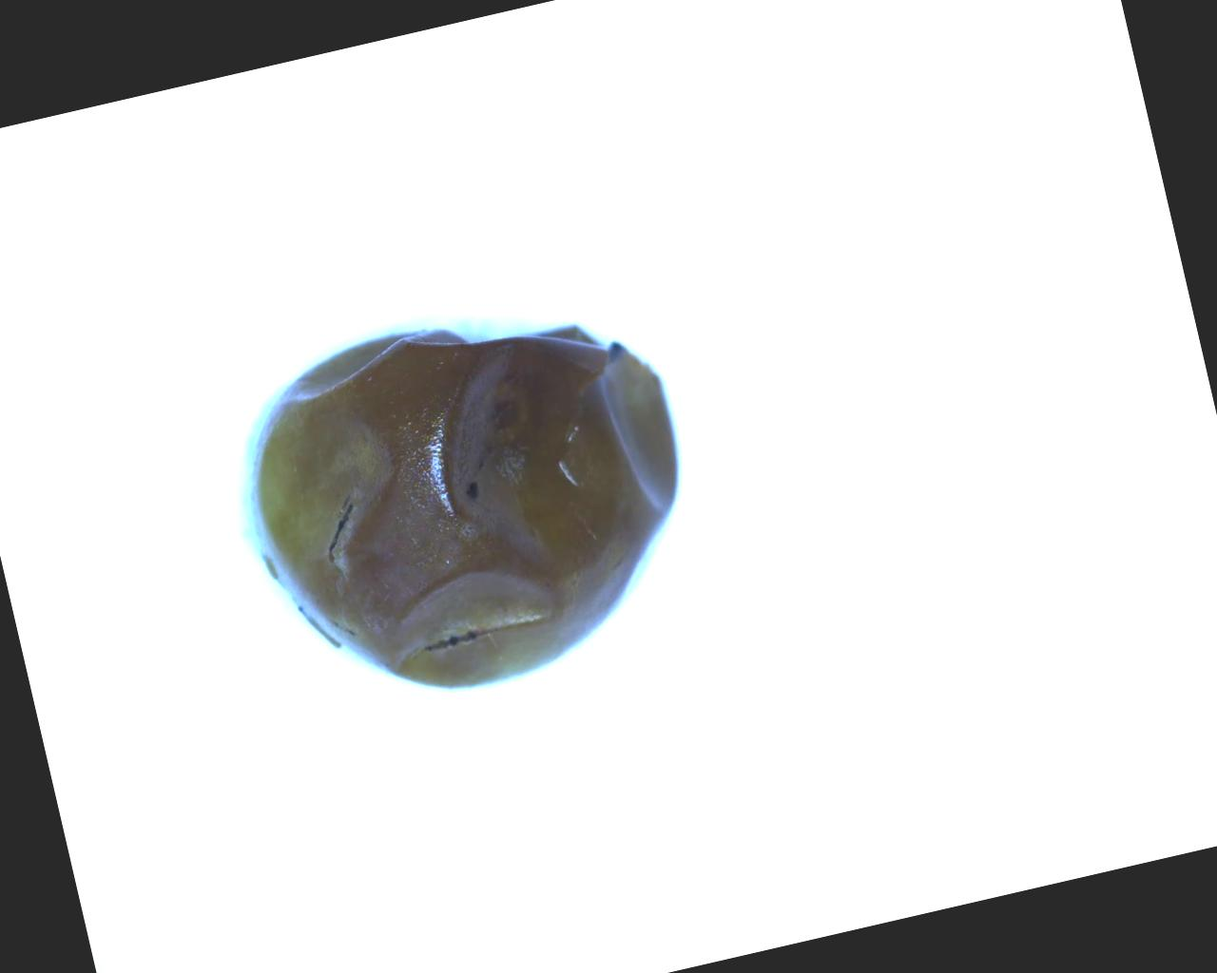Grape Rotten: (212, 273, 723, 730)
